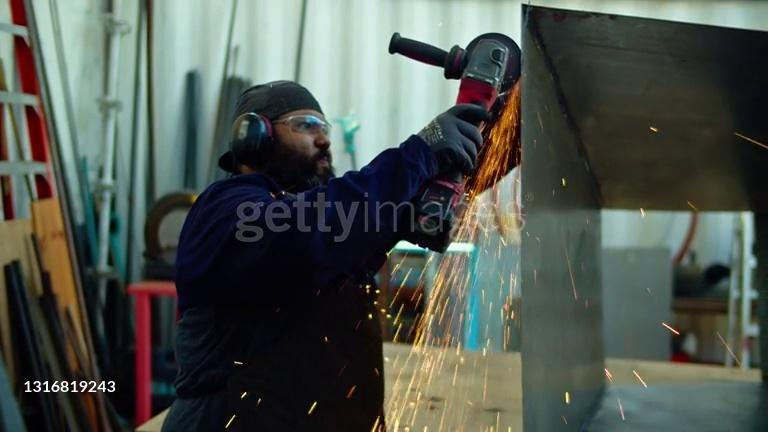person: (161, 81, 493, 432)
